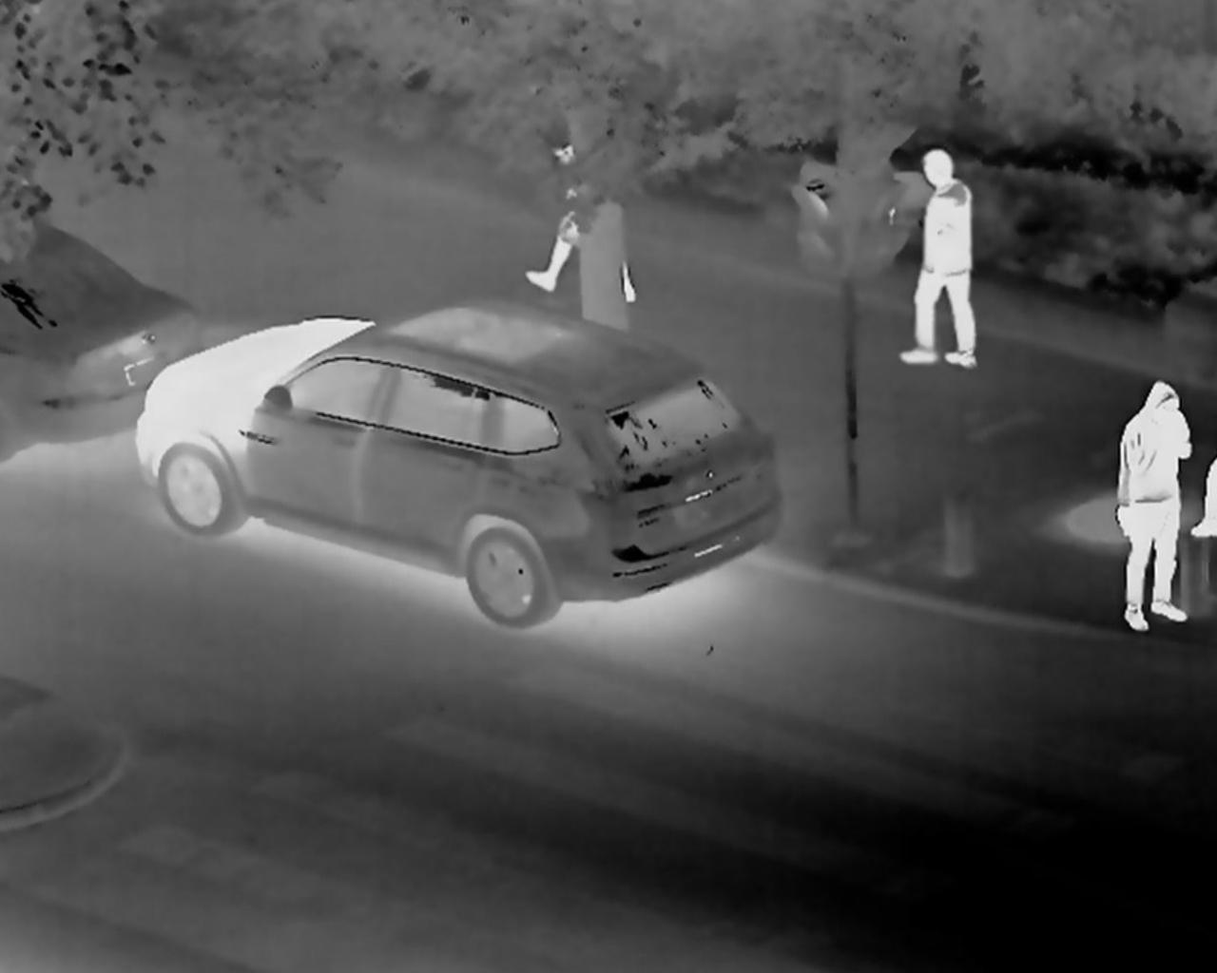person: (893, 140, 982, 372), (1115, 373, 1191, 632), (529, 120, 633, 307)
